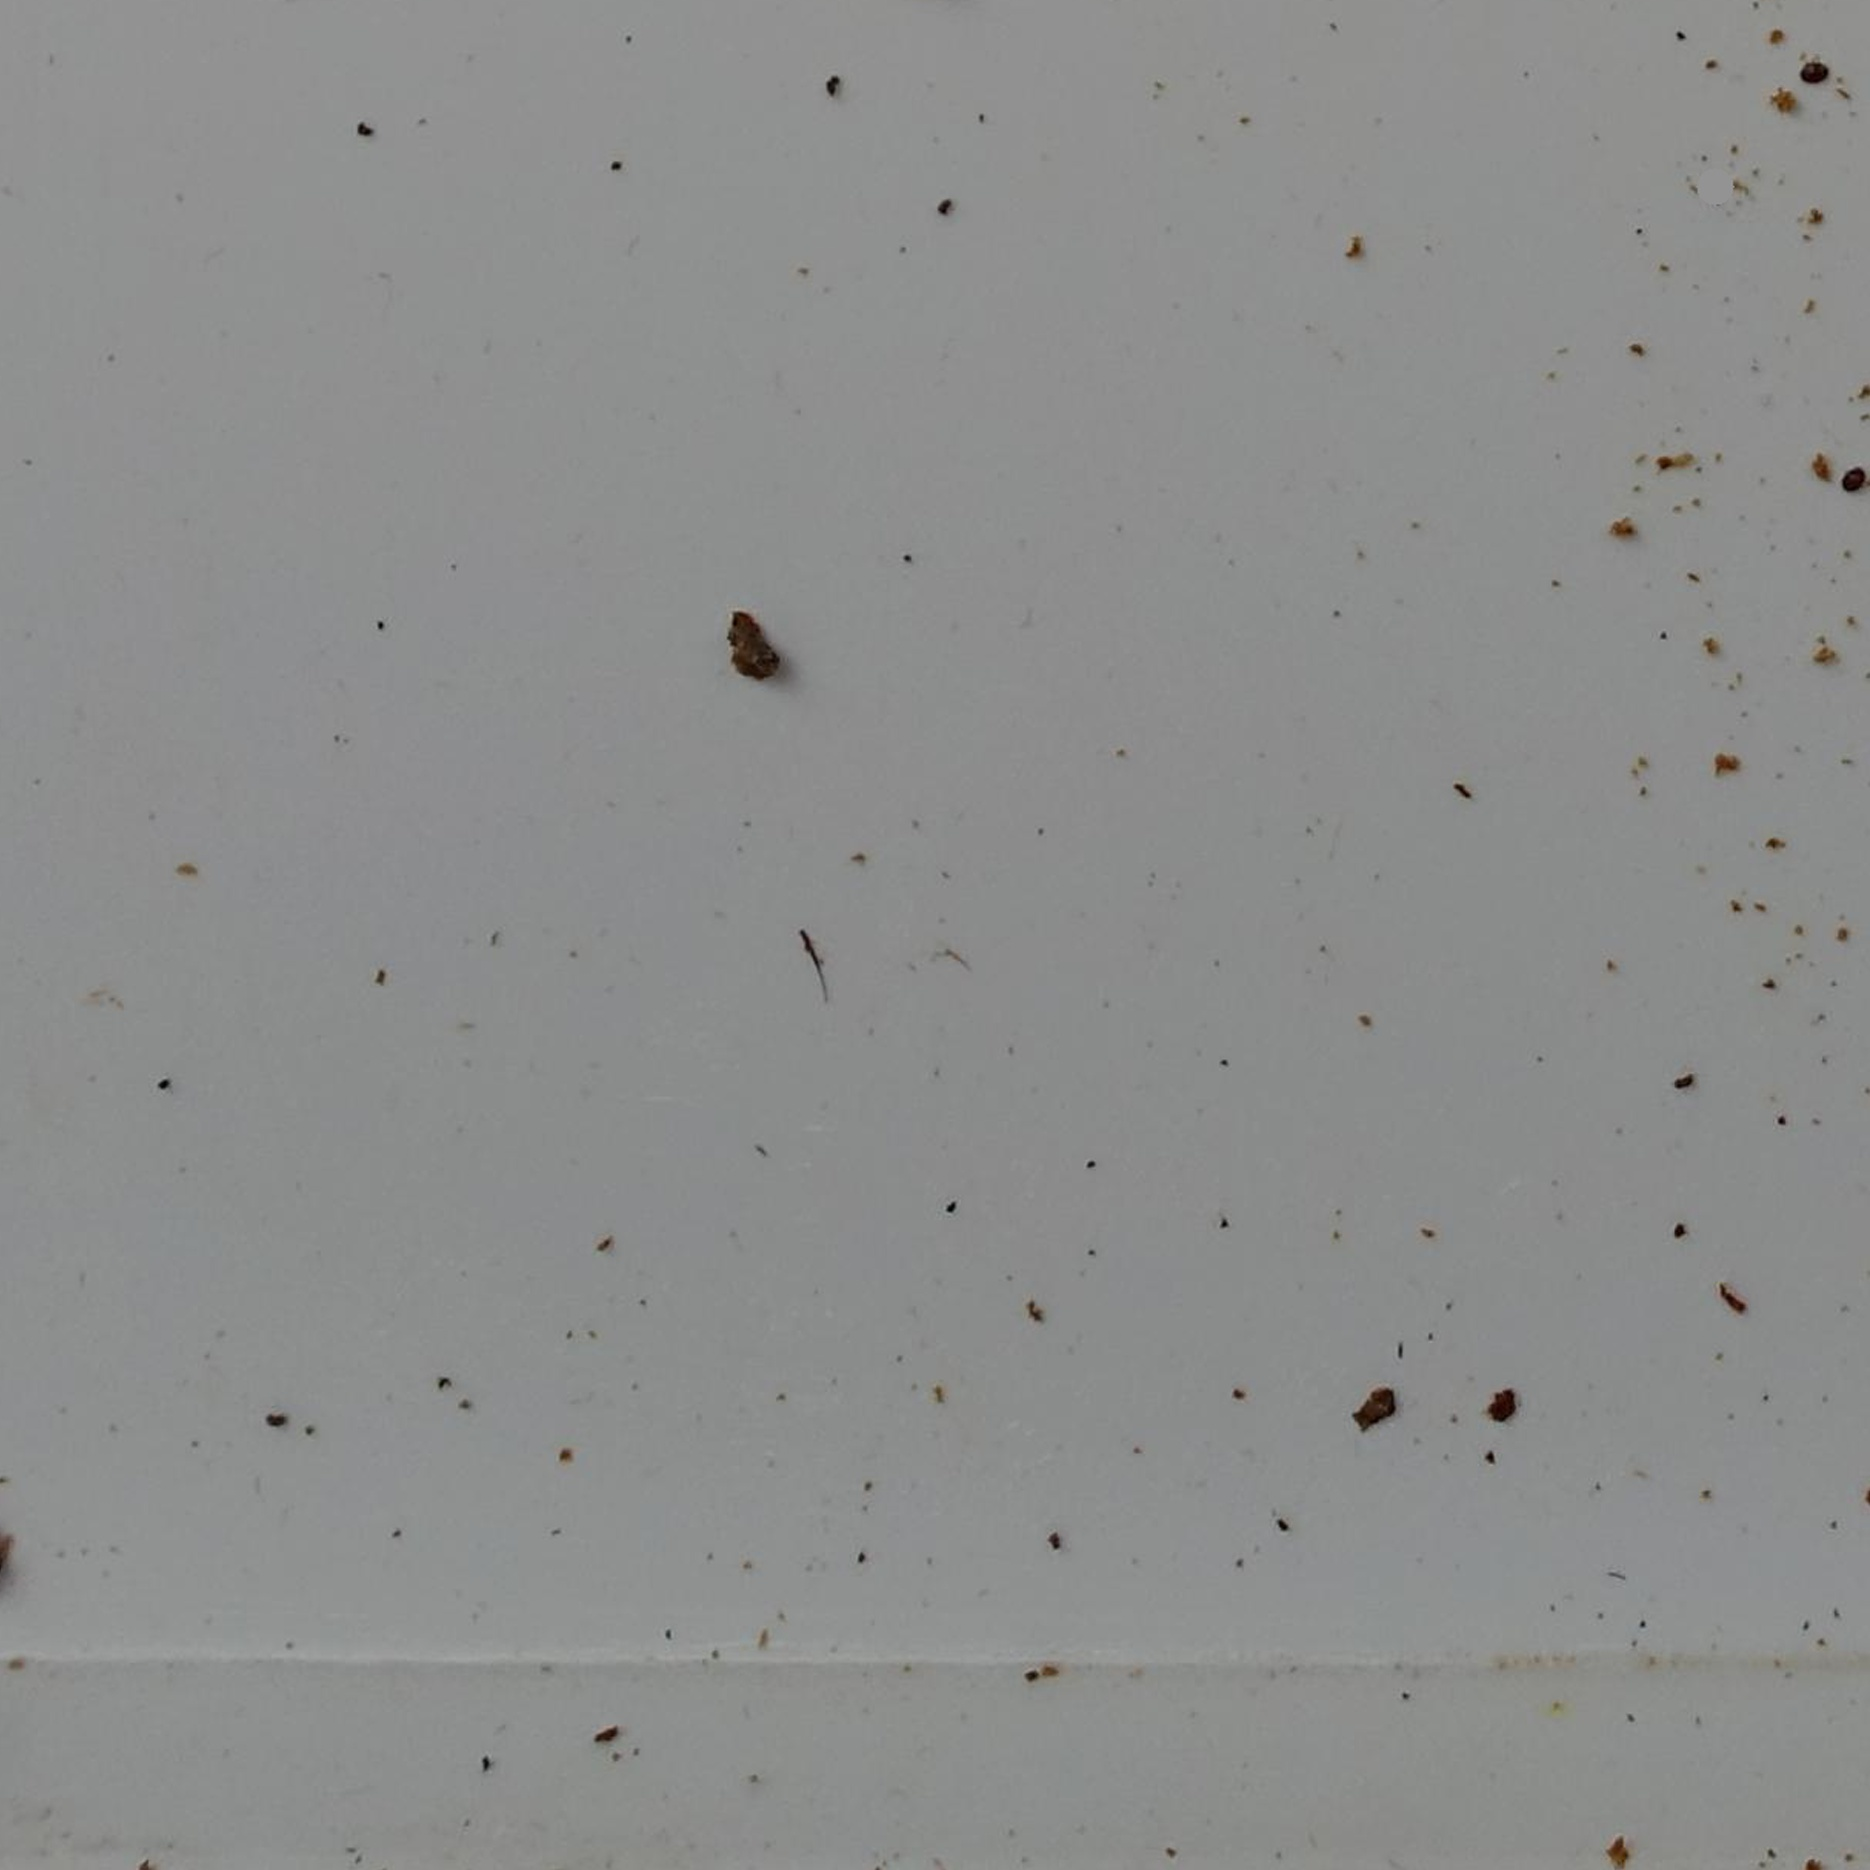Varroa: (1803, 65, 1825, 91), (1844, 459, 1868, 481), (1848, 481, 1860, 491)
